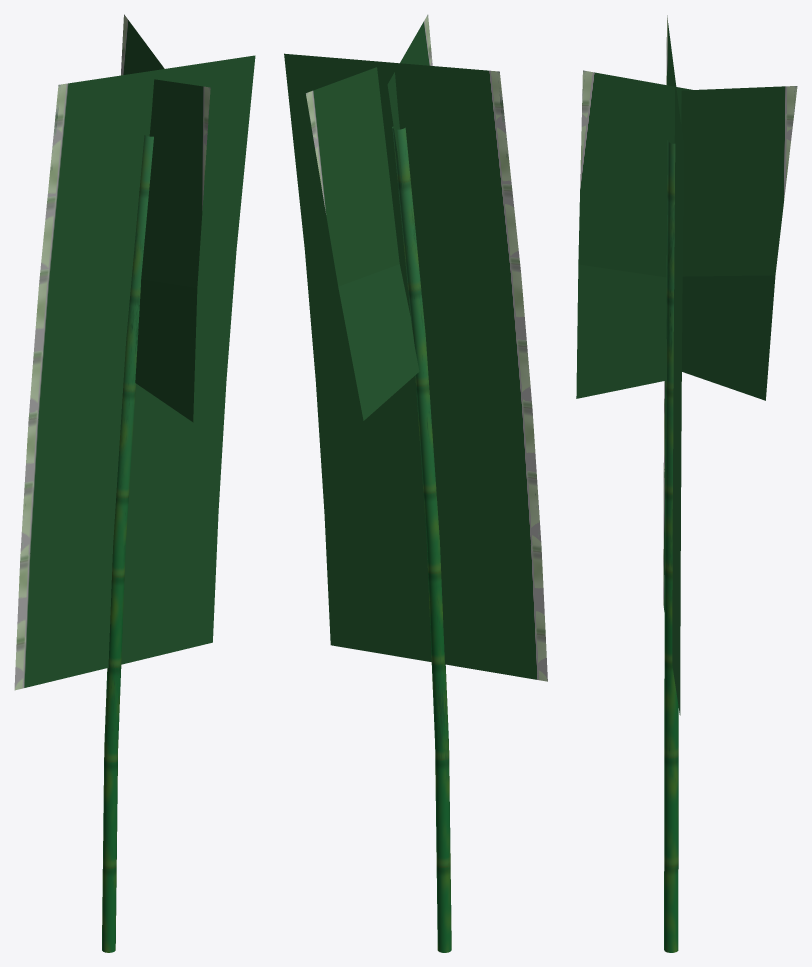
The model's file is BAMBUUU CERTO LOD.fbx.
3 renders of one model, left to right at view 1: azimuth 30°, elevation 25°; view 2: azimuth 150°, elevation 25°; view 3: azimuth 270°, elevation 25°, orthographic. The views are drawn at different scales.
Visible parts, largest first — view 1: bambu_LOD0; view 2: bambu_LOD0; view 3: bambu_LOD0.
Part boxes in pixels (x1,y1,x2,y2): bambu_LOD0: [14, 14, 255, 952]; bambu_LOD0: [284, 14, 547, 952]; bambu_LOD0: [576, 15, 797, 952].
Size of what is drawn, in the model's own units: 424 by 1419 by 313.
